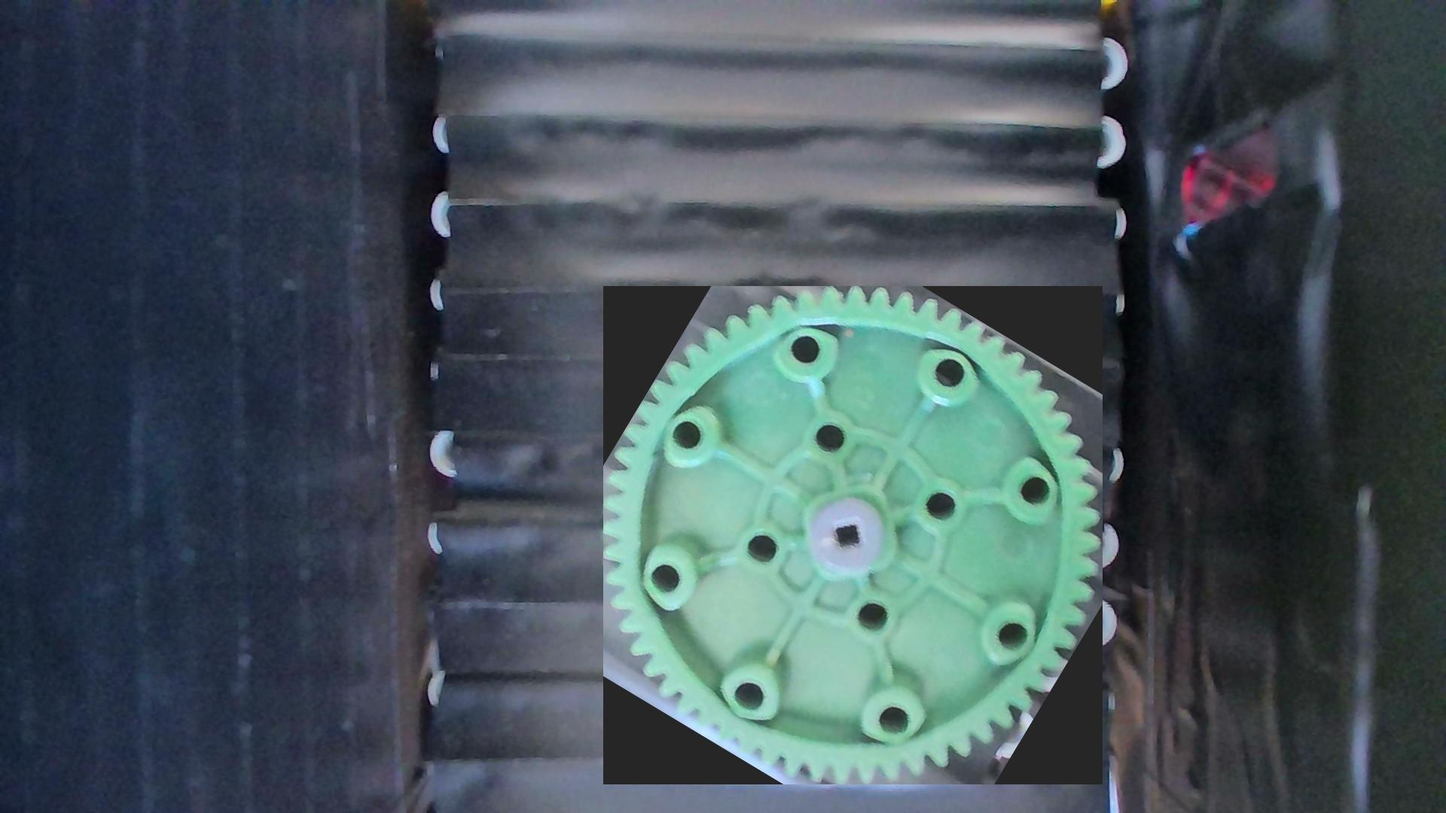gear: (603, 286, 1102, 784)
